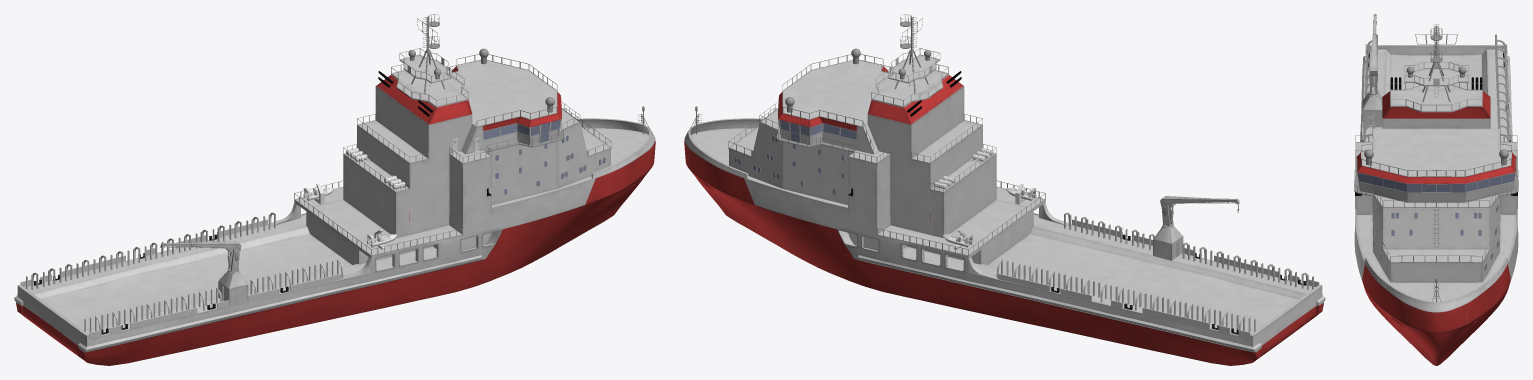
File: IvanSidorenko.fbx
3 renders of one model, left to right at view 1: azimuth 30°, elevation 25°; view 2: azimuth 150°, elevation 25°; view 3: azimuth 270°, elevation 25°, orthographic. The views are drawn at different scales.
Visible parts, largest first — view 1: tripo_node_09c04bdd-726a-4fd8-9871-91fbeef01298.005_Retopolo (×2), Perila, Perila_2, Krane, IEVOLI IVORY_IEVOLI IVORY Color_0.001; view 2: tripo_node_09c04bdd-726a-4fd8-9871-91fbeef01298.005_Retopolo (×2), Perila, Perila_2, Krane, IEVOLI IVORY_IEVOLI IVORY Color_0.001; view 3: tripo_node_09c04bdd-726a-4fd8-9871-91fbeef01298.005_Retopolo (×2), Perila, Krane, Perila_2, Circle.005, Circle, Circle.004.
Part boxes in pixels (x1,y1,x2,y2): tripo_node_09c04bdd-726a-4fd8-9871-91fbeef01298.005_Retopolo (×2): [14, 48, 655, 365]; Perila: [26, 212, 343, 332]; Perila_2: [20, 219, 341, 338]; Krane: [160, 241, 248, 305]; IEVOLI IVORY_IEVOLI IVORY Color_0.001: [303, 183, 397, 249]; tripo_node_09c04bdd-726a-4fd8-9871-91fbeef01298.005_Retopolo (×2): [684, 48, 1325, 365]; Perila: [996, 212, 1313, 332]; Perila_2: [998, 219, 1319, 338]; Krane: [1153, 196, 1239, 260]; IEVOLI IVORY_IEVOLI IVORY Color_0.001: [942, 183, 1036, 249]; tripo_node_09c04bdd-726a-4fd8-9871-91fbeef01298.005_Retopolo (×2): [1354, 44, 1518, 365]; Perila: [1363, 34, 1509, 141]; Krane: [1362, 14, 1382, 127]; Perila_2: [1361, 44, 1511, 141]; Circle.005: [1364, 149, 1508, 165]; Circle: [1422, 63, 1450, 101]; Circle.004: [1406, 66, 1466, 77].
Bounding box in the file's own units: 8996 × 3607 × 2077.
